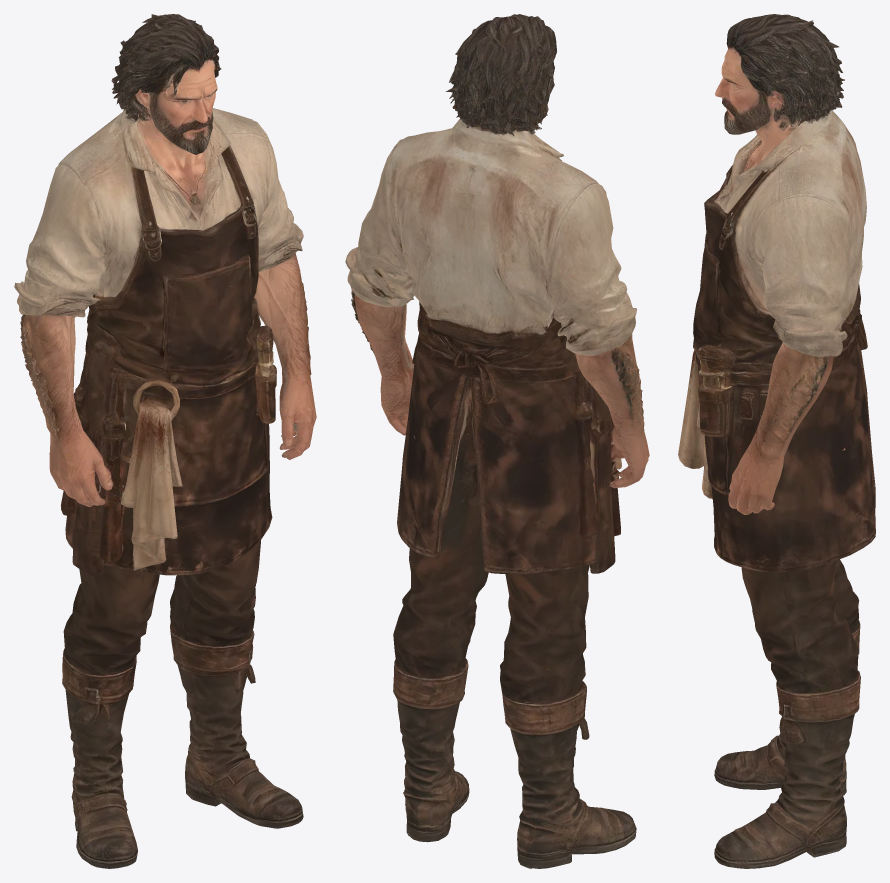
Rendered from bartender.glb.
The picture shows the model from 3 angles, left to right: view 1: azimuth 30°, elevation 25°; view 2: azimuth 150°, elevation 25°; view 3: azimuth 270°, elevation 25°; orthographic projection.
Size of the model in its own units: 0.6841 by 1.9 by 0.4246.
1 material, 1 textured.
